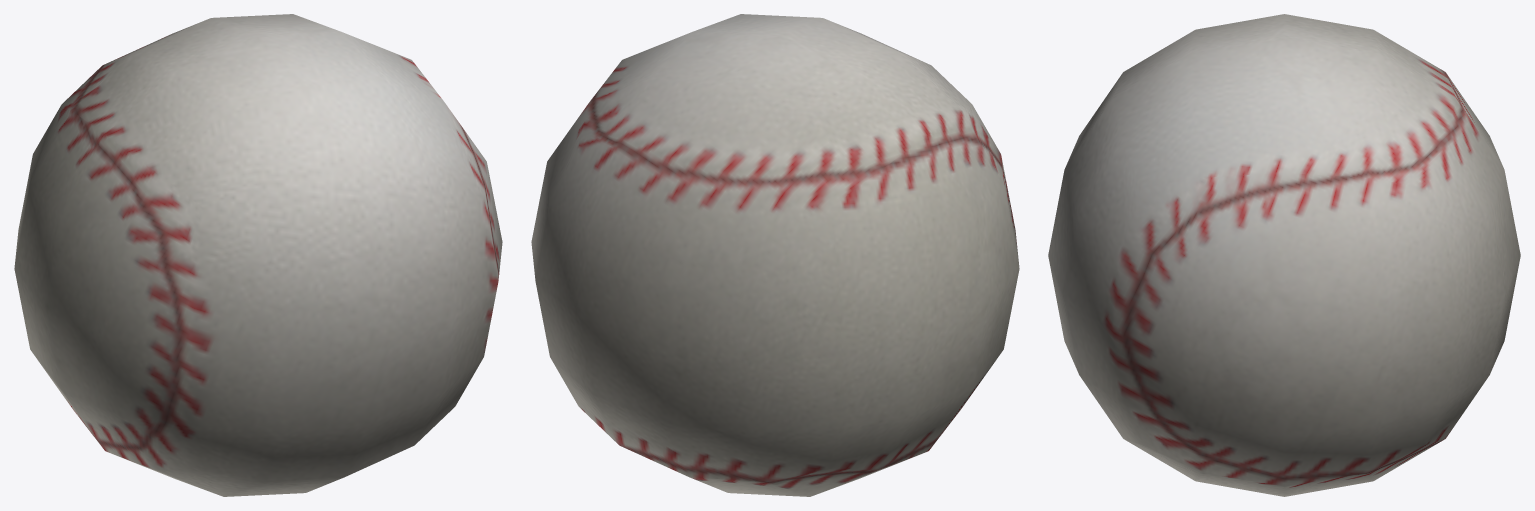
File: Baseball_Ball_pet.fbx
The picture shows the model from 3 angles, left to right: view 1: azimuth 30°, elevation 25°; view 2: azimuth 150°, elevation 25°; view 3: azimuth 270°, elevation 25°; orthographic projection.
Visible parts, largest first — view 1: Baseball_Ball_pet; view 2: Baseball_Ball_pet; view 3: Baseball_Ball_pet.
Boxes of the visible parts, x1,y1,x2,y2 form: Baseball_Ball_pet: [14, 14, 502, 496]; Baseball_Ball_pet: [531, 14, 1019, 496]; Baseball_Ball_pet: [1048, 14, 1520, 496].
Size of the model in its own units: 8.3 by 8.18 by 8.12.
